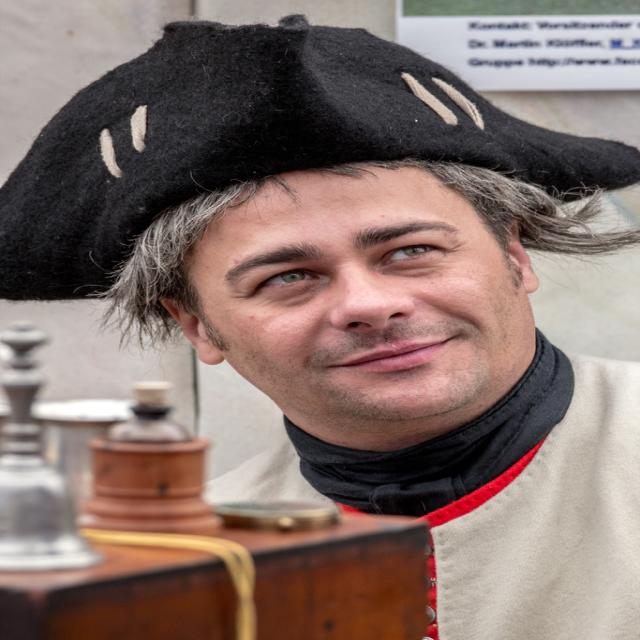Hat: (0, 12, 639, 300)
